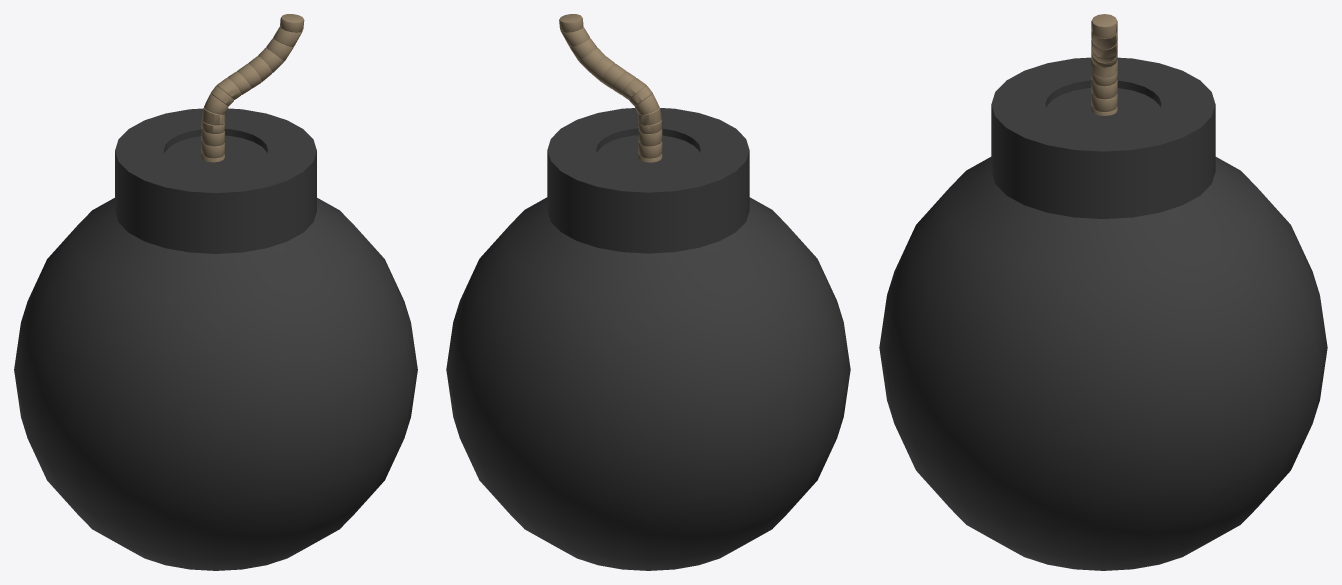
The model's file is prop_bomb.fbx.
3 renders of one model, left to right at view 1: azimuth 30°, elevation 25°; view 2: azimuth 150°, elevation 25°; view 3: azimuth 270°, elevation 25°, orthographic. The views are drawn at different scales.
Visible parts, largest first — view 1: prop_bomb; view 2: prop_bomb; view 3: prop_bomb.
Boxes of the visible parts, x1,y1,x2,y2 form: prop_bomb: (14,14,417,570); prop_bomb: (446,14,850,570); prop_bomb: (879,14,1327,570).
Bounding box in the file's own units: 18.69 × 26.38 × 18.69.
